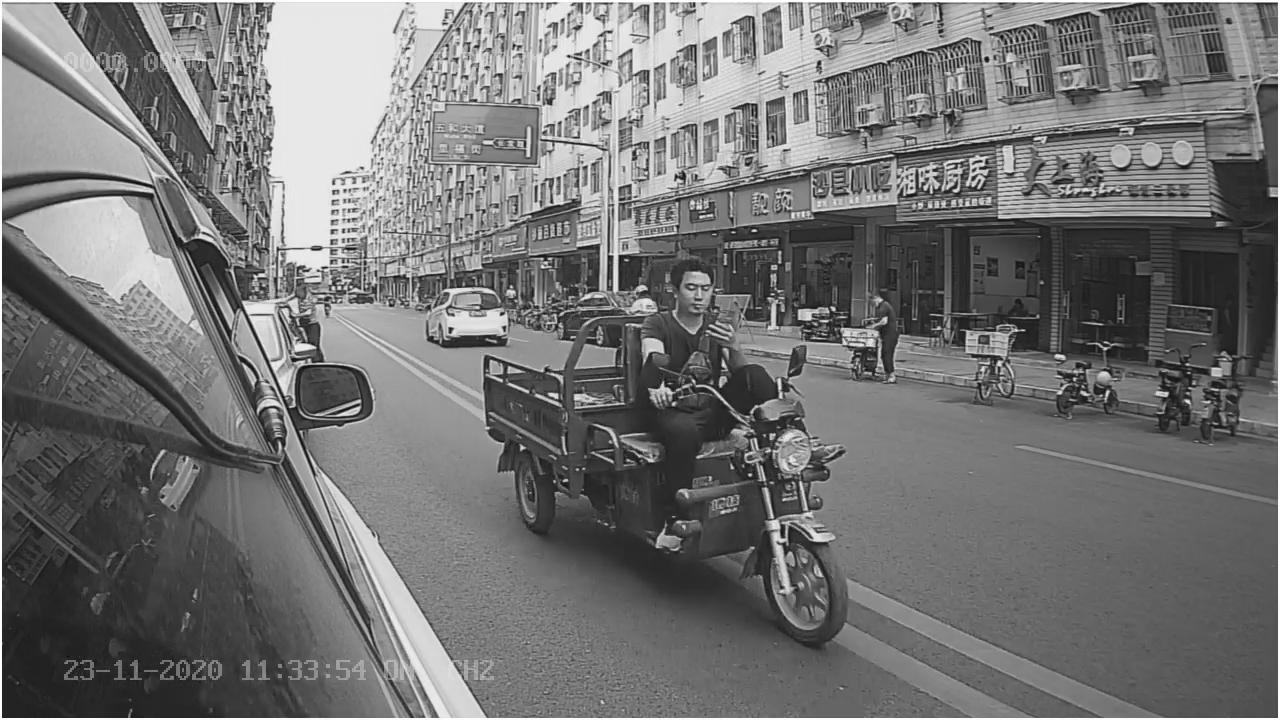person: (637, 257, 760, 403)
